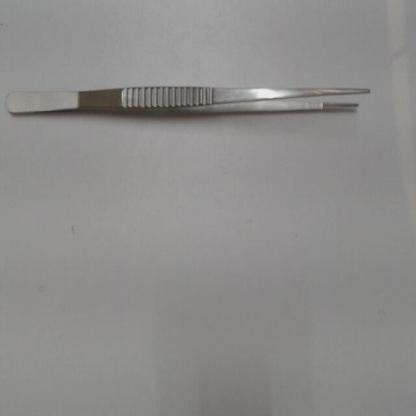DeBakey Dissector: (2, 62, 388, 134)
